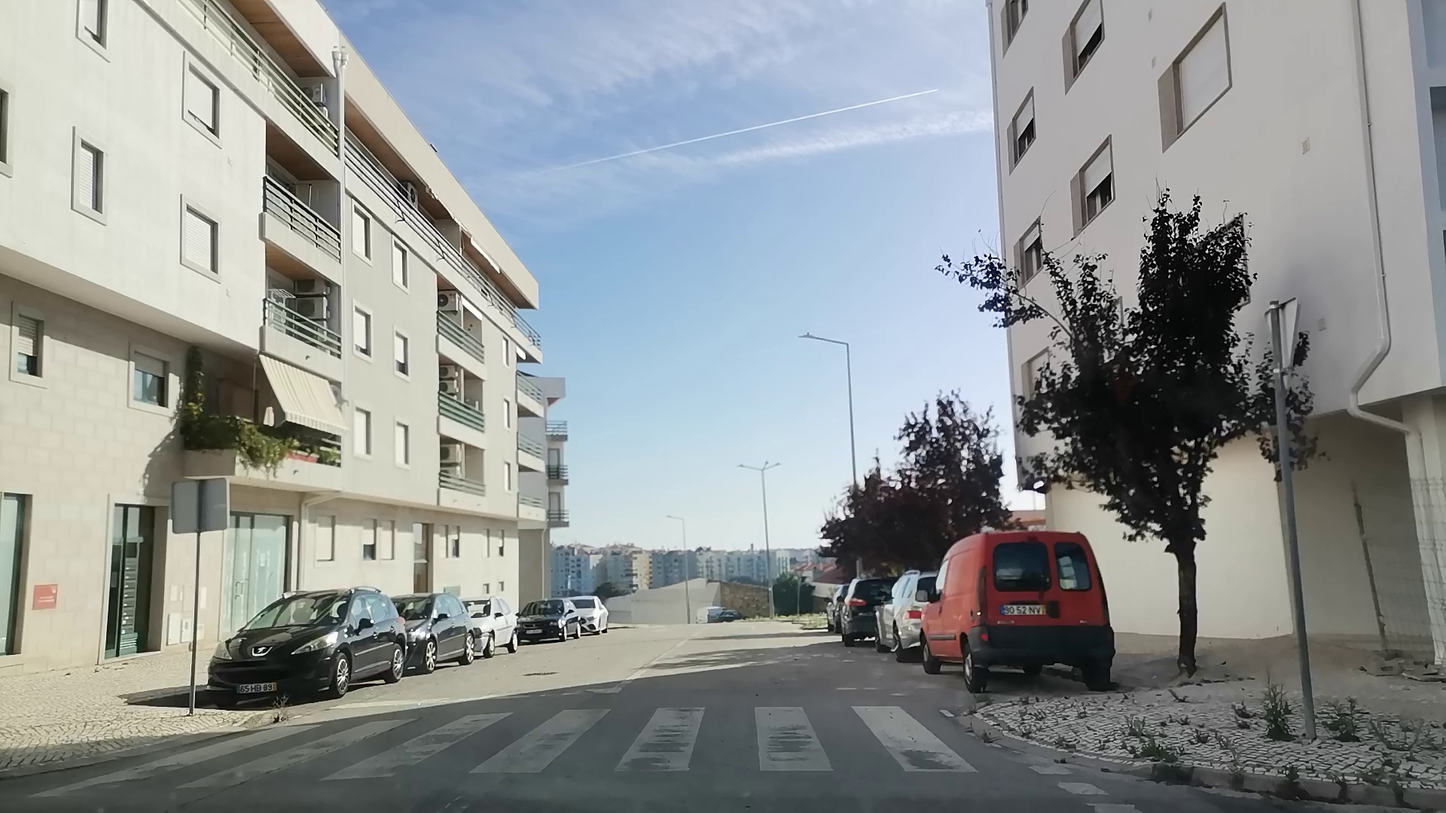Stairs: (140, 697, 990, 799)
